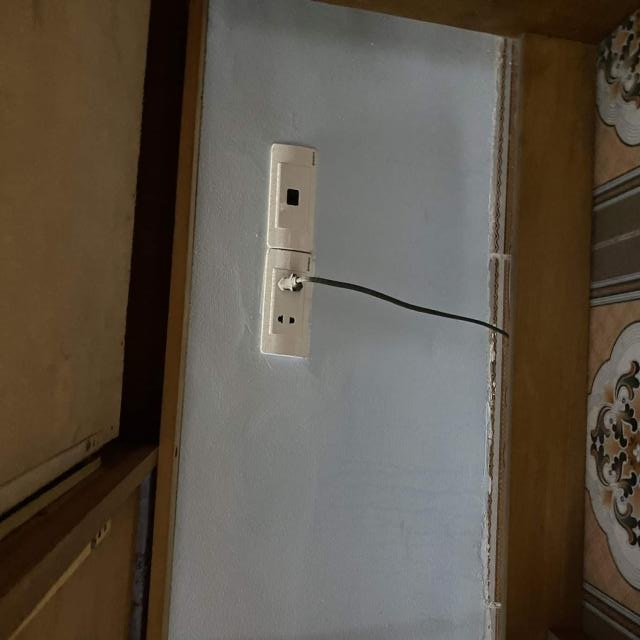outlet: (260, 249, 314, 359), (266, 143, 317, 253)
